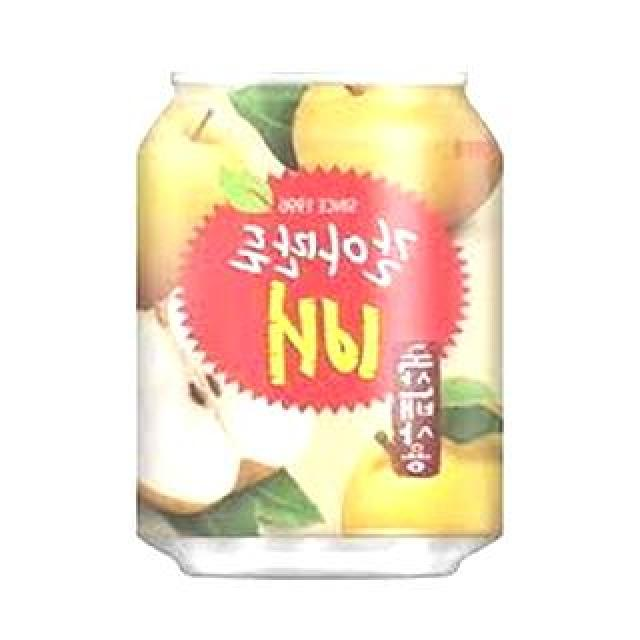Can: (124, 67, 506, 581)
